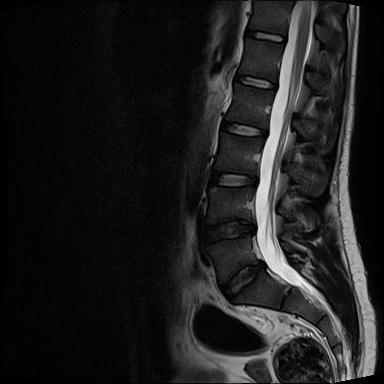Lumbar Disc Bulge (LDB): (215, 257, 271, 307), (199, 214, 260, 247), (216, 119, 271, 140)
Normal IVD: (206, 170, 261, 189), (230, 72, 281, 92), (241, 27, 289, 47)
Spinal Stenosis (SS): (242, 218, 259, 238), (260, 125, 274, 143), (256, 256, 268, 274)
